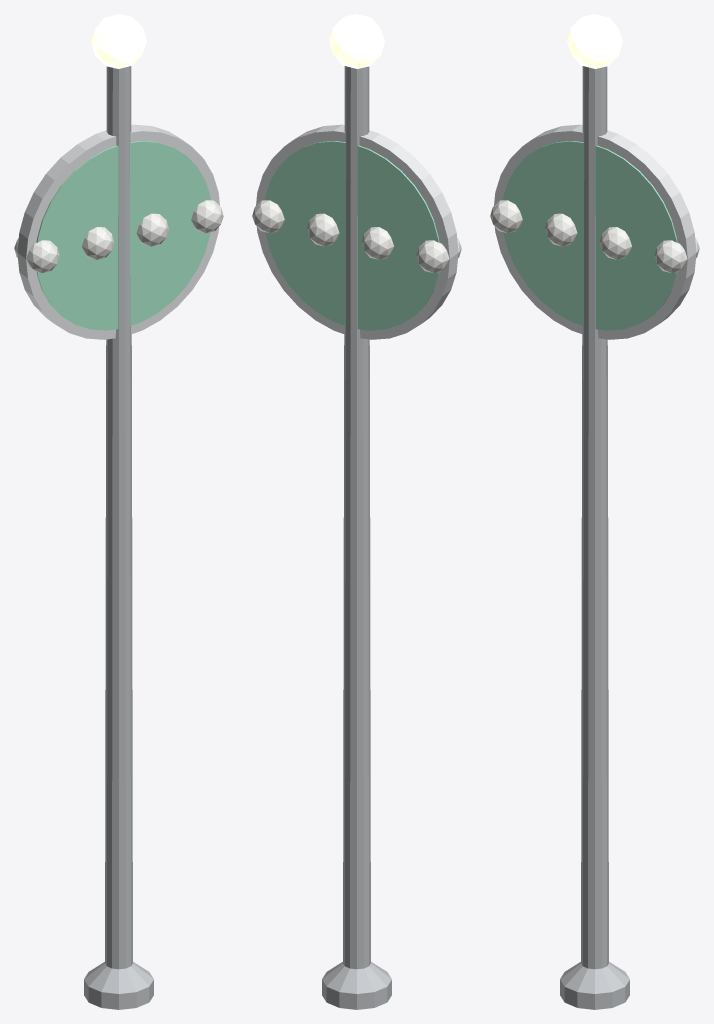
Rendered from bay_pole_4.glb.
3 views of the same model, side by side, from view 1: azimuth 30°, elevation 25°; view 2: azimuth 150°, elevation 25°; view 3: azimuth 330°, elevation 25° (orthographic).
Parts seen in each view (by area): view 1: bay_pole_4_steel, bay_pole_4_led_g, bay_pole_4_chrome, bay_pole_4_paint_w, bay_pole_4_lamp_glass; view 2: bay_pole_4_steel, bay_pole_4_led_g, bay_pole_4_chrome, bay_pole_4_paint_w, bay_pole_4_lamp_glass; view 3: bay_pole_4_steel, bay_pole_4_led_g, bay_pole_4_chrome, bay_pole_4_paint_w, bay_pole_4_lamp_glass.
Boxes of the visible parts, bbox=[...] form: bay_pole_4_steel: bbox=[84, 66, 153, 1009]; bay_pole_4_led_g: bbox=[36, 141, 210, 330]; bay_pole_4_chrome: bbox=[17, 124, 219, 339]; bay_pole_4_paint_w: bbox=[14, 200, 223, 273]; bay_pole_4_lamp_glass: bbox=[91, 14, 146, 68]; bay_pole_4_steel: bbox=[322, 66, 391, 1009]; bay_pole_4_led_g: bbox=[265, 141, 439, 330]; bay_pole_4_chrome: bbox=[256, 124, 458, 339]; bay_pole_4_paint_w: bbox=[252, 200, 461, 273]; bay_pole_4_lamp_glass: bbox=[329, 14, 384, 68]; bay_pole_4_steel: bbox=[560, 66, 629, 1009]; bay_pole_4_led_g: bbox=[503, 141, 677, 330]; bay_pole_4_chrome: bbox=[494, 124, 696, 339]; bay_pole_4_paint_w: bbox=[490, 200, 699, 273]; bay_pole_4_lamp_glass: bbox=[567, 14, 622, 68].
Bounding box in the file's own units: 0.64 × 3.08 × 0.2.
